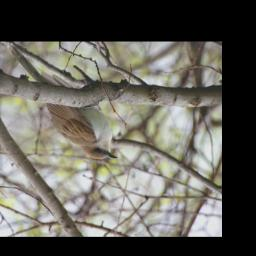Cuckoo: (5, 42, 118, 159)
